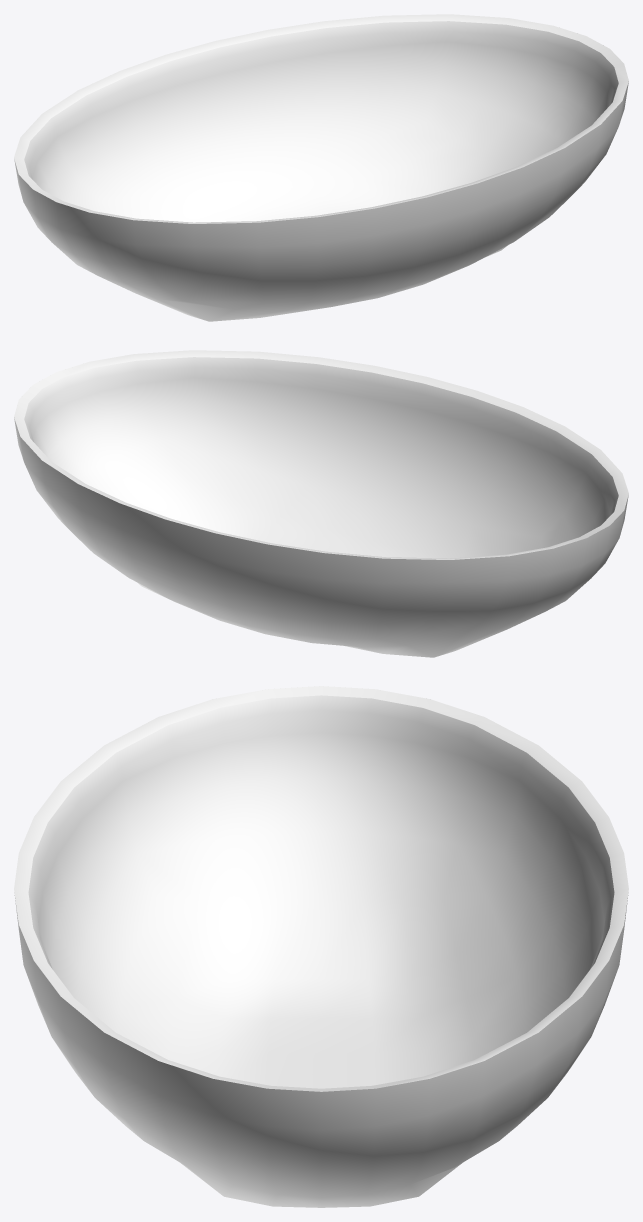
Rendered from LP_platter.glb.
The picture shows the model from 3 angles, top to bottom: view 1: azimuth 30°, elevation 25°; view 2: azimuth 150°, elevation 25°; view 3: azimuth 270°, elevation 25°; orthographic projection. The views are drawn at different scales.
Parts seen in each view (by area): view 1: LP_platter.001; view 2: LP_platter.001; view 3: LP_platter.001.
Part boxes in pixels (box(x1,y1,x2,y2)): LP_platter.001: box(14, 14, 628, 321); LP_platter.001: box(14, 350, 628, 657); LP_platter.001: box(14, 686, 628, 1207).
Size of the model in its own units: 0.2514 by 0.063 by 0.161.
1 material, 1 textured.
